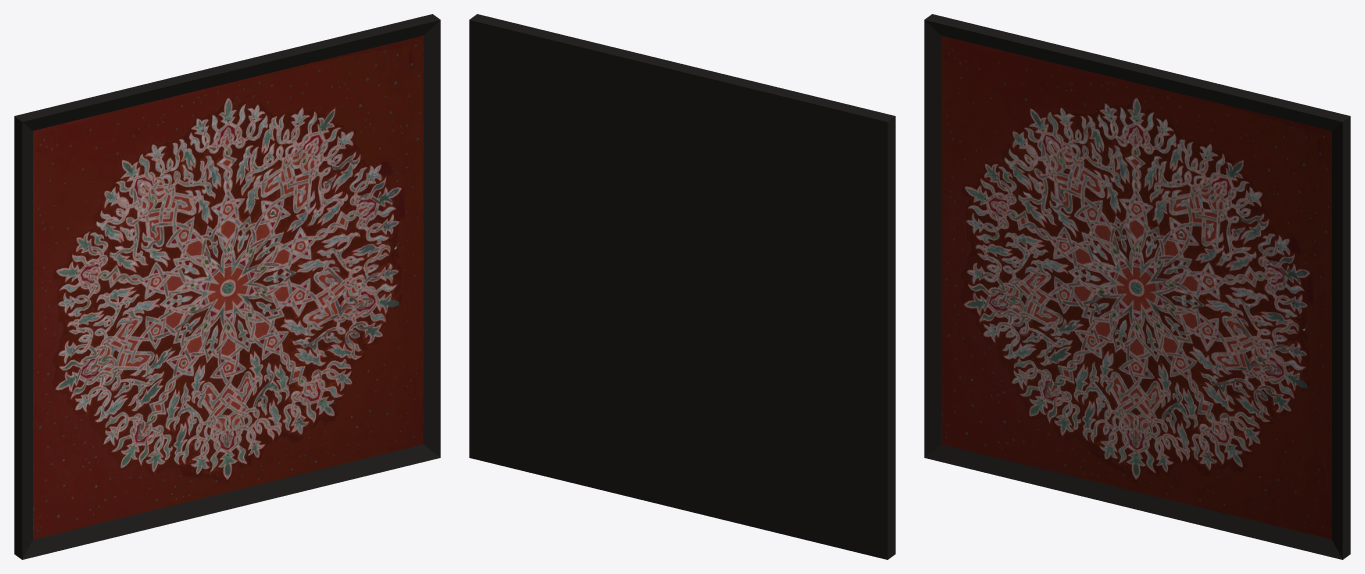
File: slipper-orchids-orchids30-garnet-red-a0-stained-black-v2.glb
The picture shows the model from 3 angles, left to right: view 1: azimuth 30°, elevation 25°; view 2: azimuth 150°, elevation 25°; view 3: azimuth 330°, elevation 25°; orthographic projection.
Visible parts, largest first — view 1: FramedPrint; view 2: FramedPrint; view 3: FramedPrint.
Boxes of the visible parts, x1,y1,x2,y2 form: FramedPrint: (14, 14, 440, 559); FramedPrint: (469, 14, 895, 559); FramedPrint: (924, 14, 1350, 559).
Bounding box in the file's own units: 0.9 × 0.9 × 0.03.
Materials: 2 (1 with a texture image).
